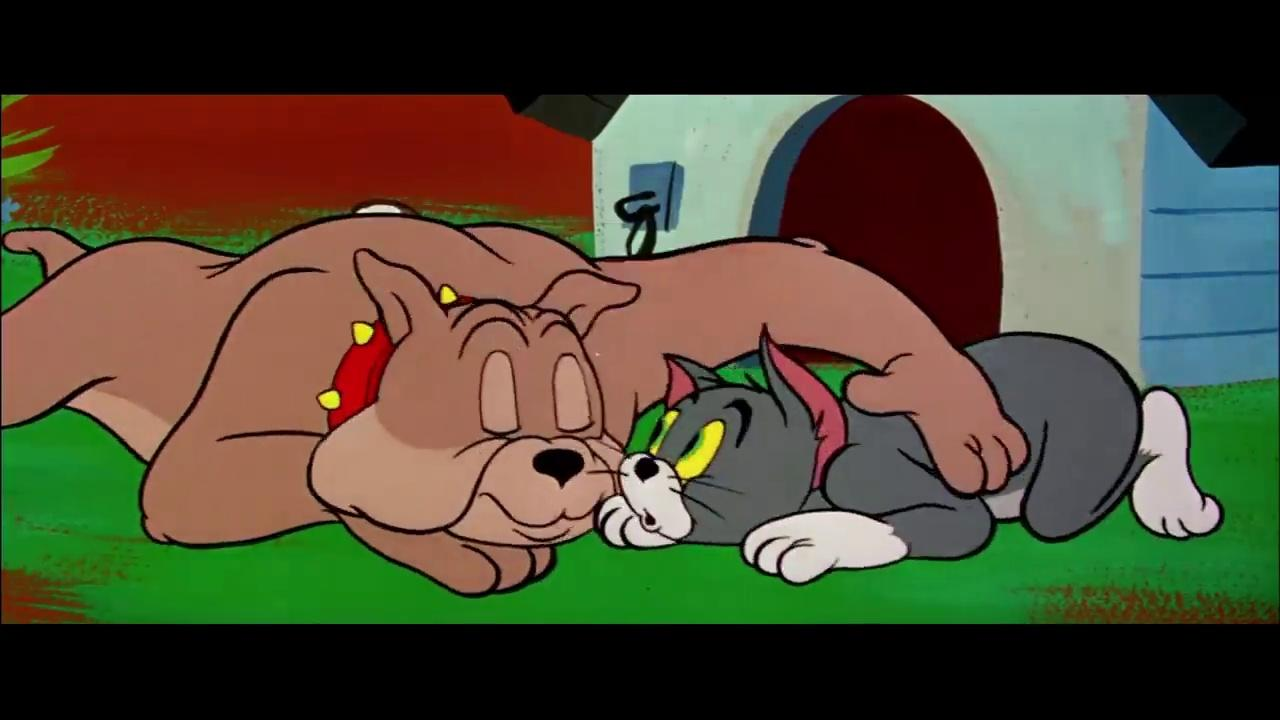Tom: (591, 319, 1226, 587)
